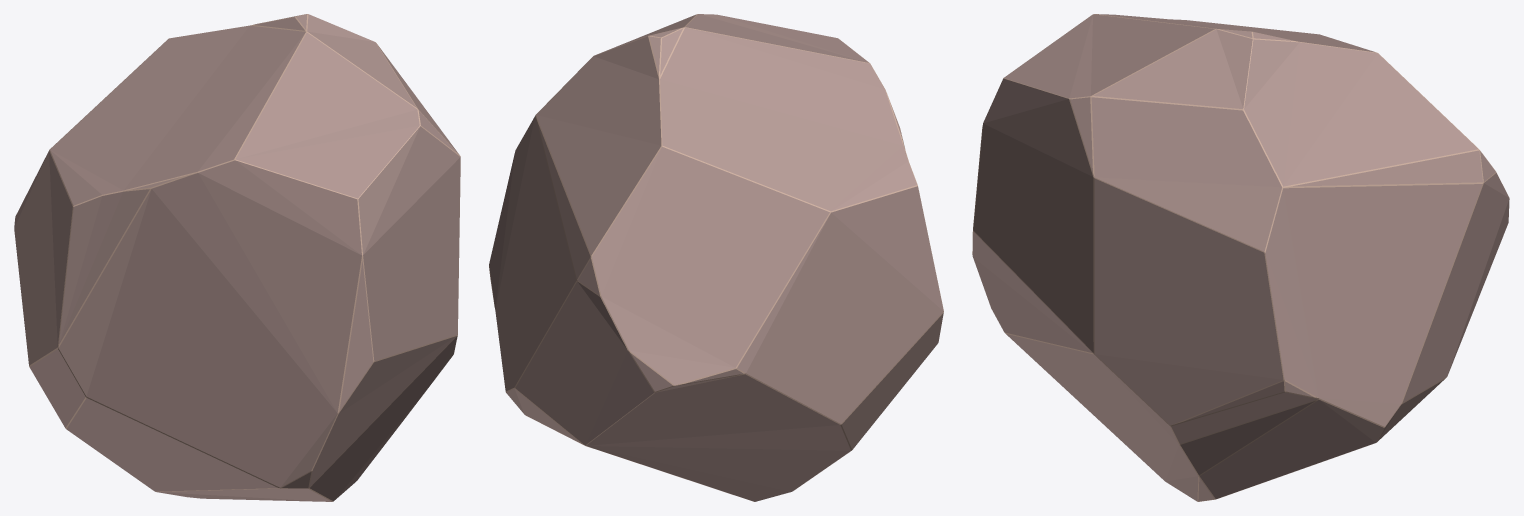
Rendered from rock-small-1.glb.
The picture shows the model from 3 angles, left to right: view 1: azimuth 30°, elevation 25°; view 2: azimuth 150°, elevation 25°; view 3: azimuth 270°, elevation 25°; orthographic projection. The views are drawn at different scales.
Parts seen in each view (by area): view 1: rock-small-1; view 2: rock-small-1; view 3: rock-small-1.
Part boxes in pixels (bbox=[...]): rock-small-1: bbox=[14, 14, 460, 501]; rock-small-1: bbox=[489, 14, 943, 501]; rock-small-1: bbox=[972, 14, 1509, 501].
Bounding box in the file's own units: 0.9303 × 0.9451 × 1.
